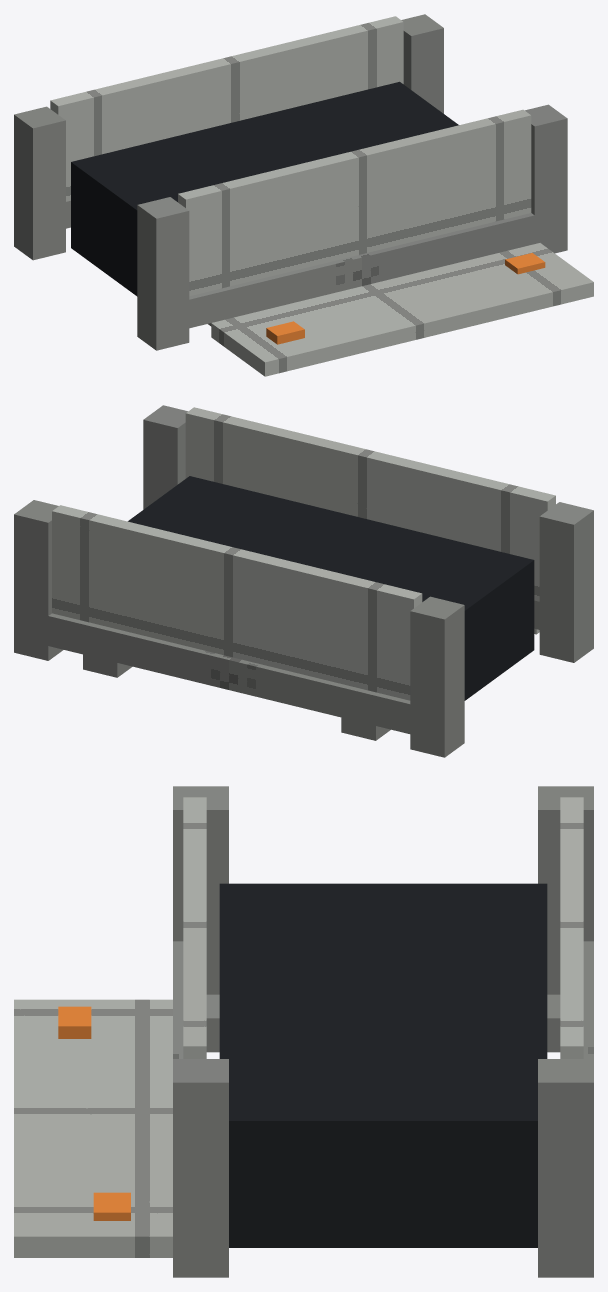
Rendered from ca_breakable_brace_wreck.glb.
The picture shows the model from 3 angles, top to bottom: view 1: azimuth 30°, elevation 25°; view 2: azimuth 150°, elevation 25°; view 3: azimuth 270°, elevation 25°; orthographic projection. The views are drawn at different scales.
Visible parts, largest first — view 1: ca_breakable_brace_wreck; view 2: ca_breakable_brace_wreck; view 3: ca_breakable_brace_wreck.
Part boxes in pixels (<box>): ca_breakable_brace_wreck: <box>14,14,593,376</box>; ca_breakable_brace_wreck: <box>14,405,593,757</box>; ca_breakable_brace_wreck: <box>14,786,593,1277</box>.
Bounding box in the file's own units: 1.5 × 0.49 × 1.24.
4 materials, 4 textured.
